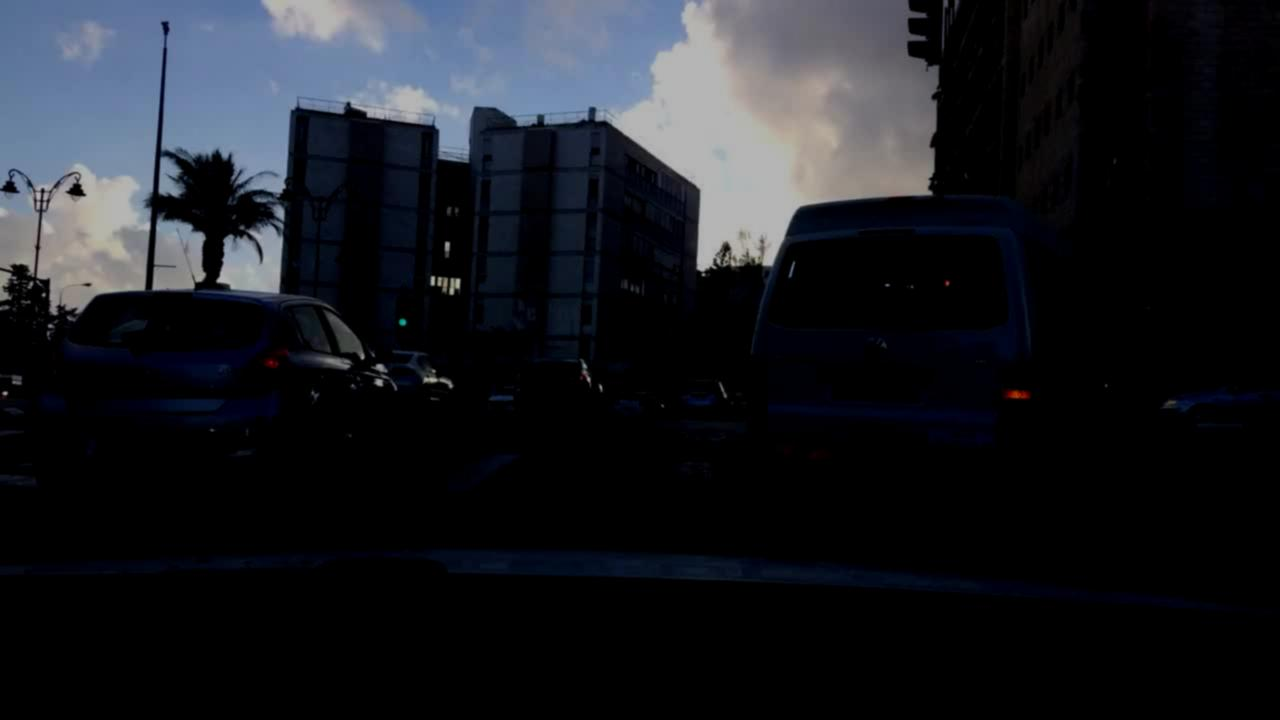Hyundai: (128, 364, 158, 391)
Volkswagen: (860, 332, 895, 365)
